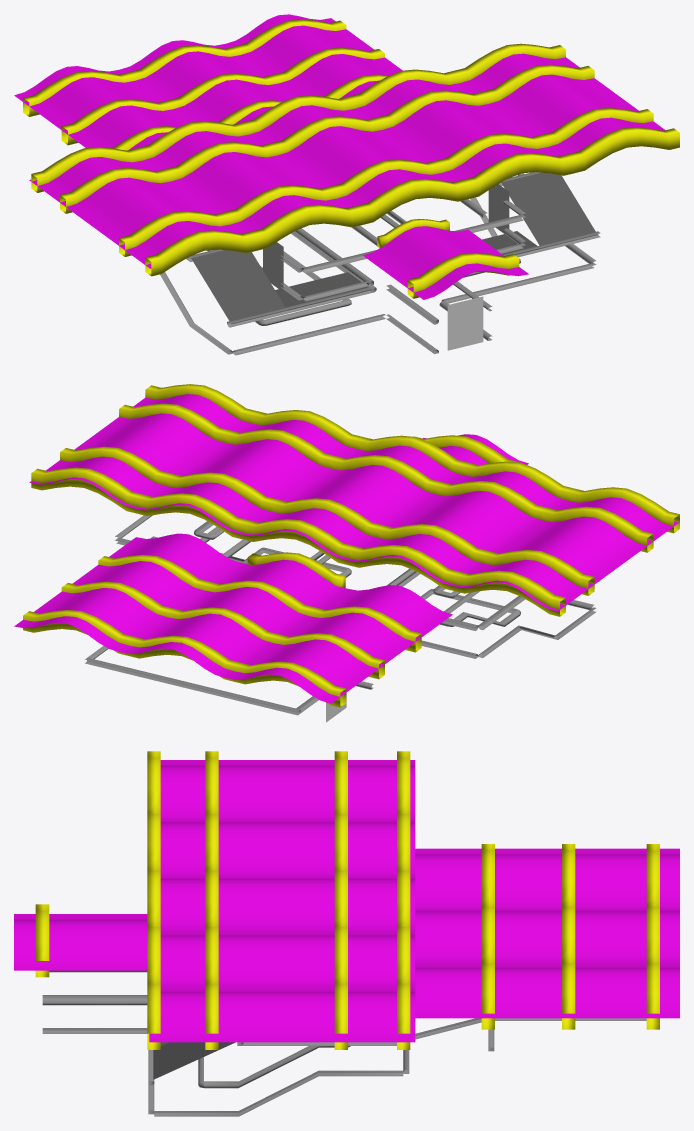
The model's file is Map002_M_Low_Export.fbx.
The picture shows the model from 3 angles, top to bottom: view 1: azimuth 30°, elevation 25°; view 2: azimuth 150°, elevation 25°; view 3: azimuth 270°, elevation 25°; orthographic projection. The views are drawn at different scales.
Visible parts, largest first — view 1: Celling_4, Columns_T_D_low35, pPlane22, Low, Columns_T_D_low38, Columns_T_D_low36, Columns_T_D_low37, pPlane23, Columns_T_D_low41, Columns_T_D_low40, Columns_T_D_low30, Columns_T_D_low39 (+1 smaller); view 2: Celling_4, Columns_T_D_low38, Columns_T_D_low36, Columns_T_D_low35, Columns_T_D_low37, Low, Columns_T_D_low41, Columns_T_D_low39, Columns_T_D_low40, Columns_T_D_low32, Columns_T_D_low30; view 3: Celling_4, Low, Columns_T_D_low35, Columns_T_D_low37, Columns_T_D_low36, Columns_T_D_low38, Columns_T_D_low39, Columns_T_D_low41, Columns_T_D_low40, pPlane22, Columns_T_D_low30.
Boxes of the visible parts, x1,y1,x2,y2 form: Celling_4: (14, 14, 665, 299); Columns_T_D_low35: (145, 127, 679, 276); pPlane22: (191, 172, 597, 324); Low: (160, 172, 600, 355); Columns_T_D_low38: (31, 43, 565, 192); Columns_T_D_low36: (119, 107, 653, 256); Columns_T_D_low37: (60, 64, 594, 213); pPlane23: (263, 184, 509, 350); Columns_T_D_low41: (23, 19, 346, 116); Columns_T_D_low40: (61, 47, 384, 145); Columns_T_D_low30: (407, 252, 519, 298); Columns_T_D_low39: (112, 74, 388, 150); Celling_4: (14, 394, 678, 703); Columns_T_D_low38: (31, 467, 565, 616); Columns_T_D_low36: (119, 403, 653, 552); Columns_T_D_low35: (145, 384, 679, 533); Columns_T_D_low37: (60, 446, 594, 595); Low: (85, 515, 599, 715); Columns_T_D_low41: (23, 610, 346, 707); Columns_T_D_low39: (98, 554, 421, 652); Columns_T_D_low40: (61, 581, 384, 679); Columns_T_D_low32: (247, 552, 345, 587); Columns_T_D_low30: (414, 435, 519, 463); Celling_4: (14, 760, 679, 1042); Low: (42, 970, 646, 1116); Columns_T_D_low35: (147, 751, 160, 1049); Columns_T_D_low37: (334, 751, 347, 1049); Columns_T_D_low36: (205, 751, 218, 1049); Columns_T_D_low38: (397, 751, 410, 1049); Columns_T_D_low39: (481, 844, 494, 1029); Columns_T_D_low41: (646, 844, 659, 1029); Columns_T_D_low40: (562, 844, 575, 1029); pPlane22: (149, 1042, 235, 1081); Columns_T_D_low30: (35, 904, 49, 977).
Size of the model in its own units: 7500 by 1731 by 7470.
